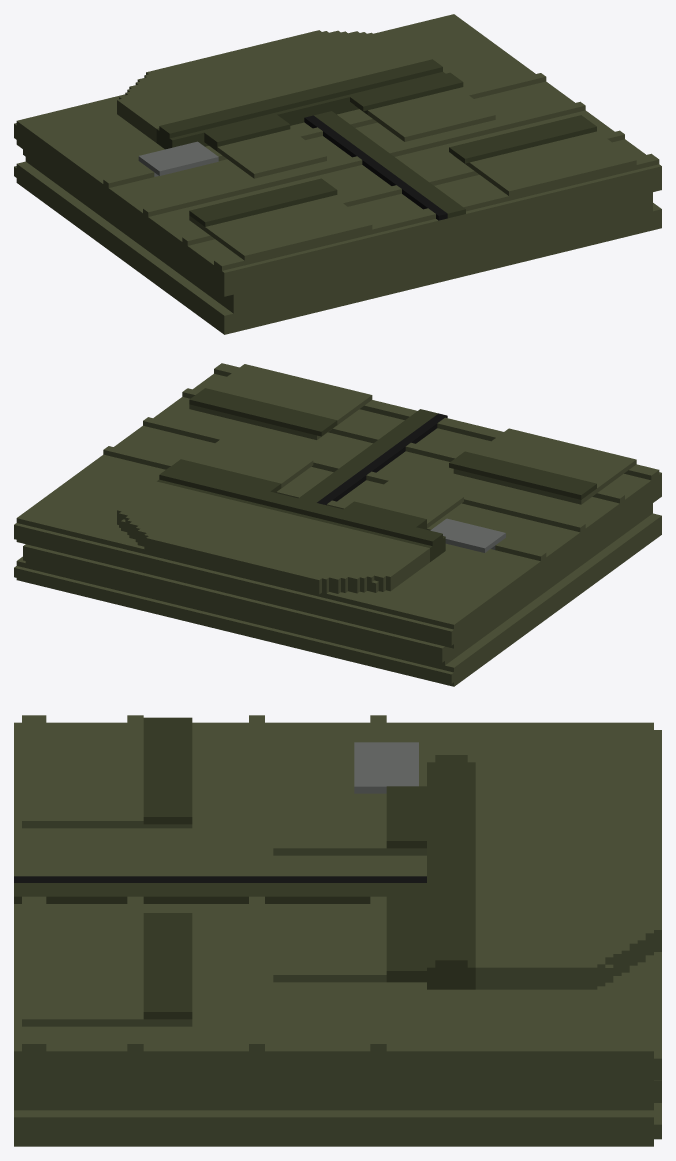
The model's file is winter_jacket_army.glb.
3 renders of one model, top to bottom at view 1: azimuth 30°, elevation 25°; view 2: azimuth 150°, elevation 25°; view 3: azimuth 270°, elevation 25°, orthographic. The views are drawn at different scales.
Parts seen in each view (by area): view 1: winter_jacket_army:compound; view 2: winter_jacket_army:compound; view 3: winter_jacket_army:compound.
Part boxes in pixels (x1,y1,x2,y2): winter_jacket_army:compound: [14, 14, 661, 334]; winter_jacket_army:compound: [14, 363, 661, 686]; winter_jacket_army:compound: [14, 715, 661, 1146].
Bounding box in the file's own units: 0.384 × 0.068 × 0.32.
